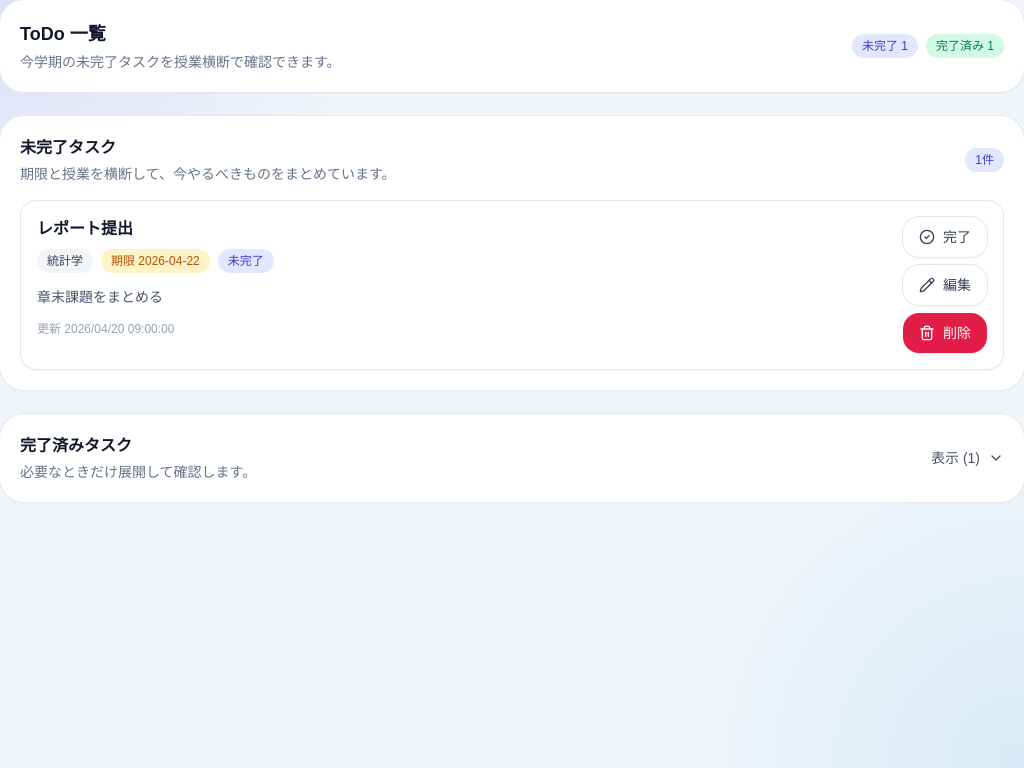
Test case: TodosPage › shows open todos first and reveals done todos only after expanding the completed section
The width and height of the screenshot is (1024, 768).
Expected: the button "レポート提出" is shown, top-left (37, 217), bottom-right (133, 241)
Expected: the text "配布資料を読む" is not shown
Step 1. Click the button "完了済みタスク 必要なときだけ展開して確認します。 表示 (1)" → (76,446), box top-left (20, 434), bottom-right (1004, 482)
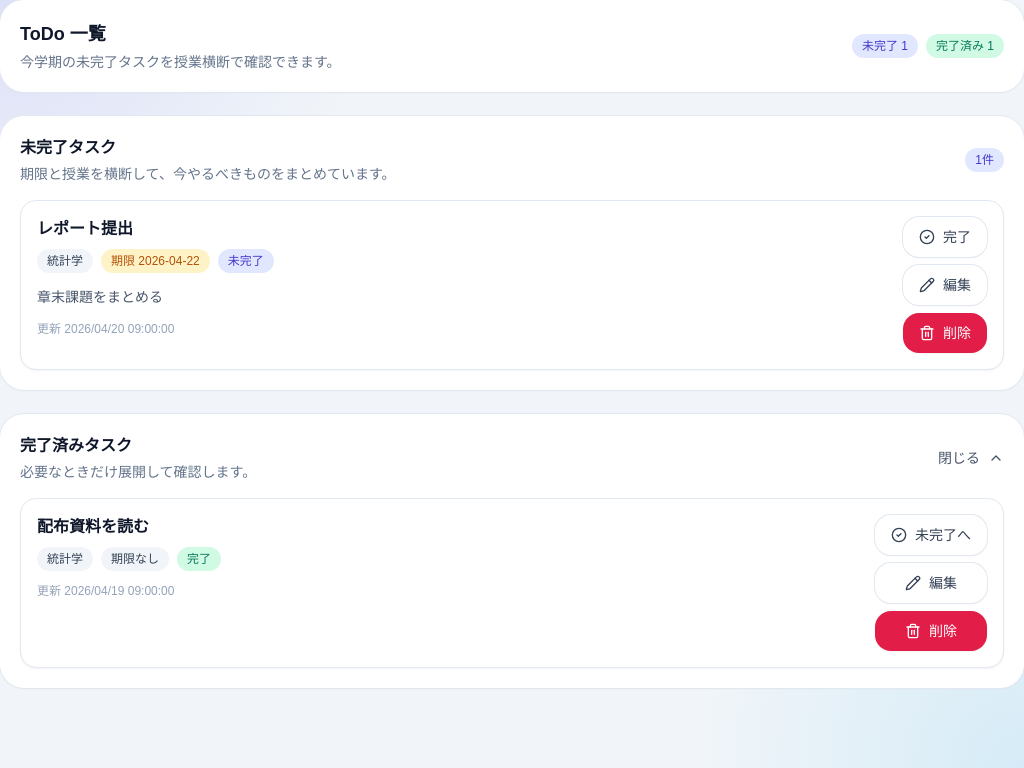
Expected: the button "配布資料を読む" is shown, top-left (37, 515), bottom-right (149, 539)
